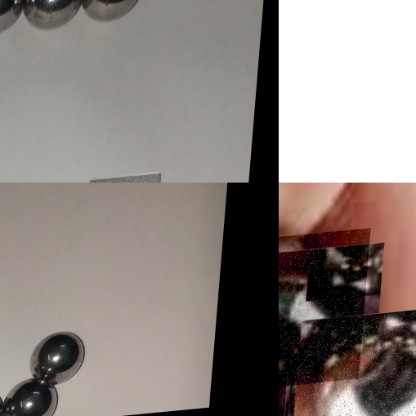ironball: (278, 230, 373, 391), (292, 313, 415, 415), (27, 328, 89, 382), (2, 373, 66, 414), (21, 0, 83, 26), (84, 0, 143, 25), (0, 0, 24, 36)
